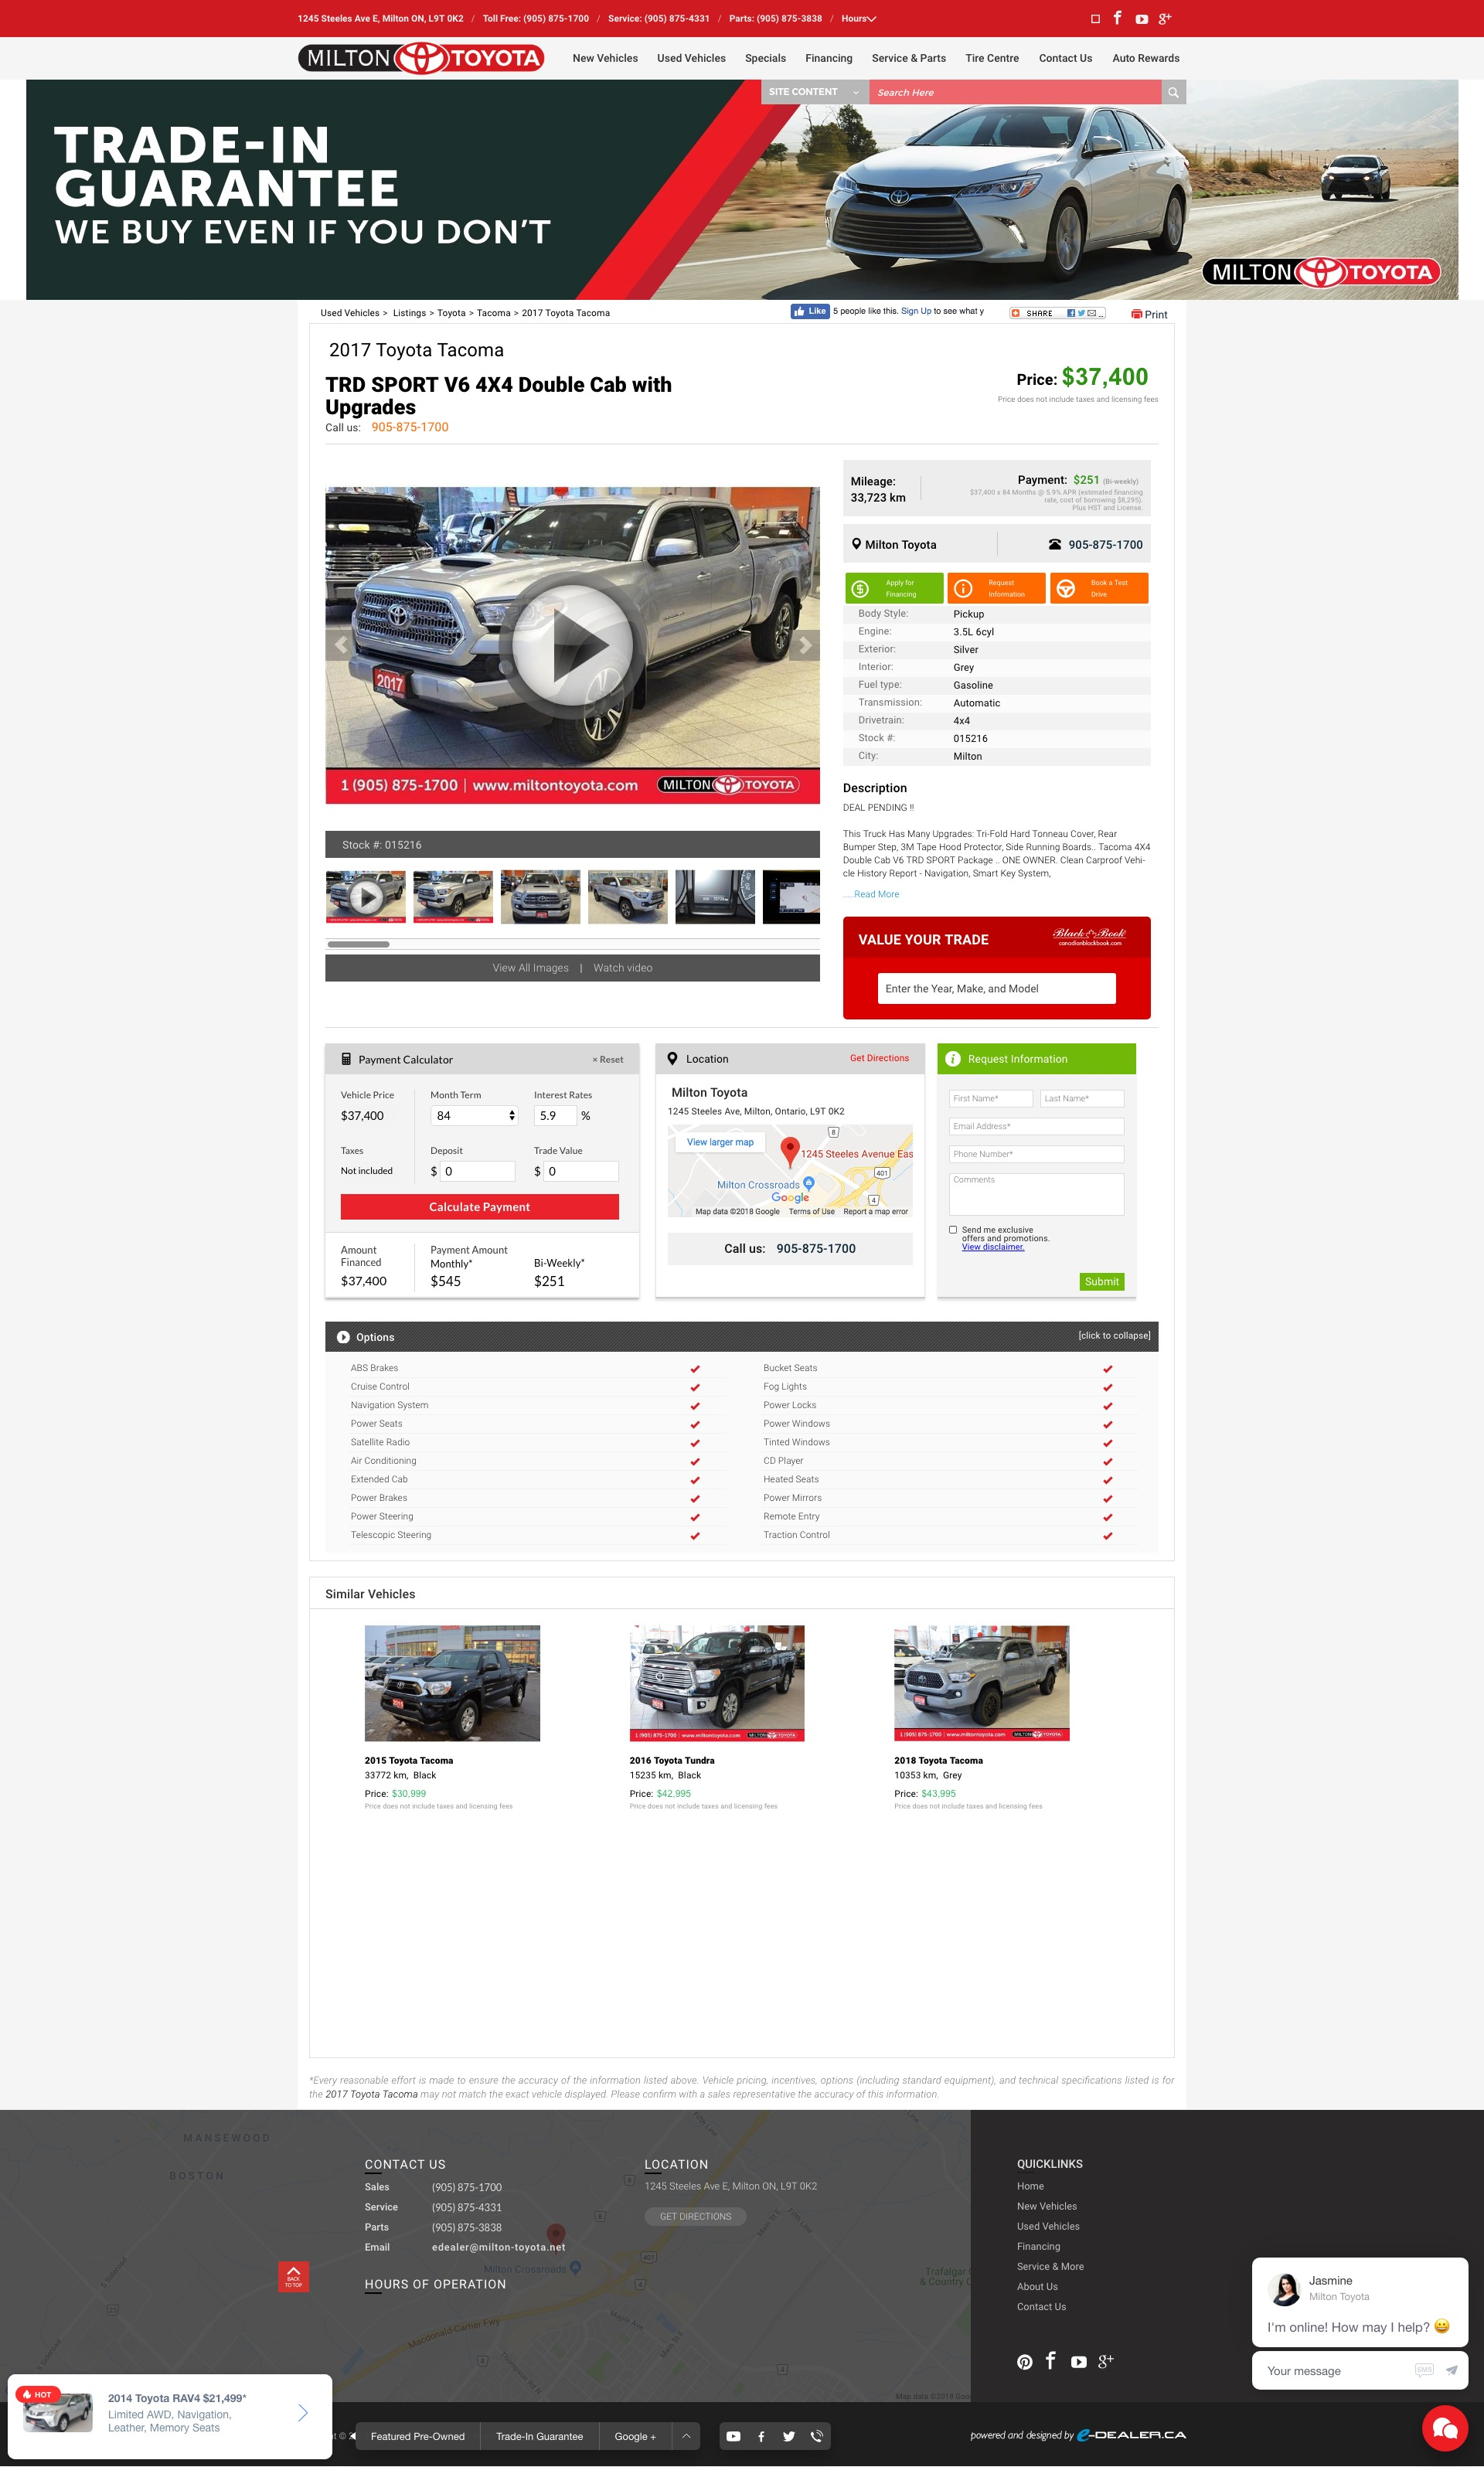car: (798, 636, 814, 656)
